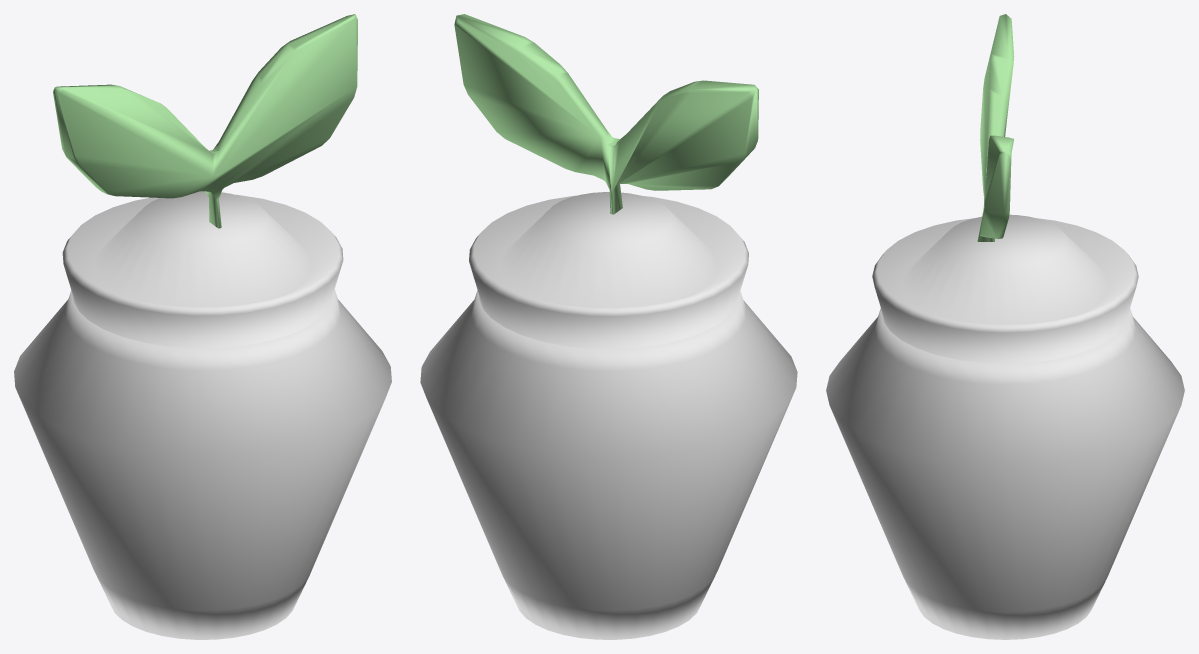
File: seedbag2.fbx
3 views of the same model, side by side, from view 1: azimuth 30°, elevation 25°; view 2: azimuth 150°, elevation 25°; view 3: azimuth 270°, elevation 25° (orthographic). The views are drawn at different scales.
Parts seen in each view (by area): view 1: Cylinder.001, Cube.002; view 2: Cylinder.001, Cube.002; view 3: Cylinder.001, Cube.002.
Part boxes in pixels (x1,y1,x2,y2): Cylinder.001: [14, 191, 391, 639]; Cube.002: [53, 14, 357, 228]; Cylinder.001: [420, 192, 797, 639]; Cube.002: [454, 14, 758, 214]; Cylinder.001: [826, 214, 1184, 639]; Cube.002: [977, 14, 1014, 241].
Bounding box in the file's own units: 8.4 × 13.46 × 8.4.
